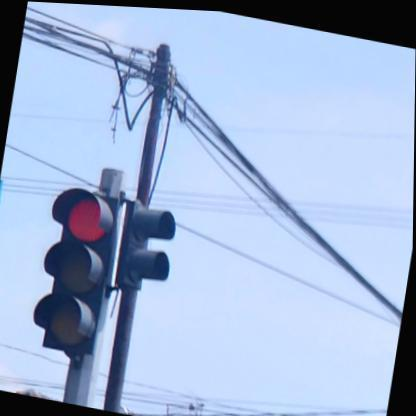red: (28, 182, 122, 359)
